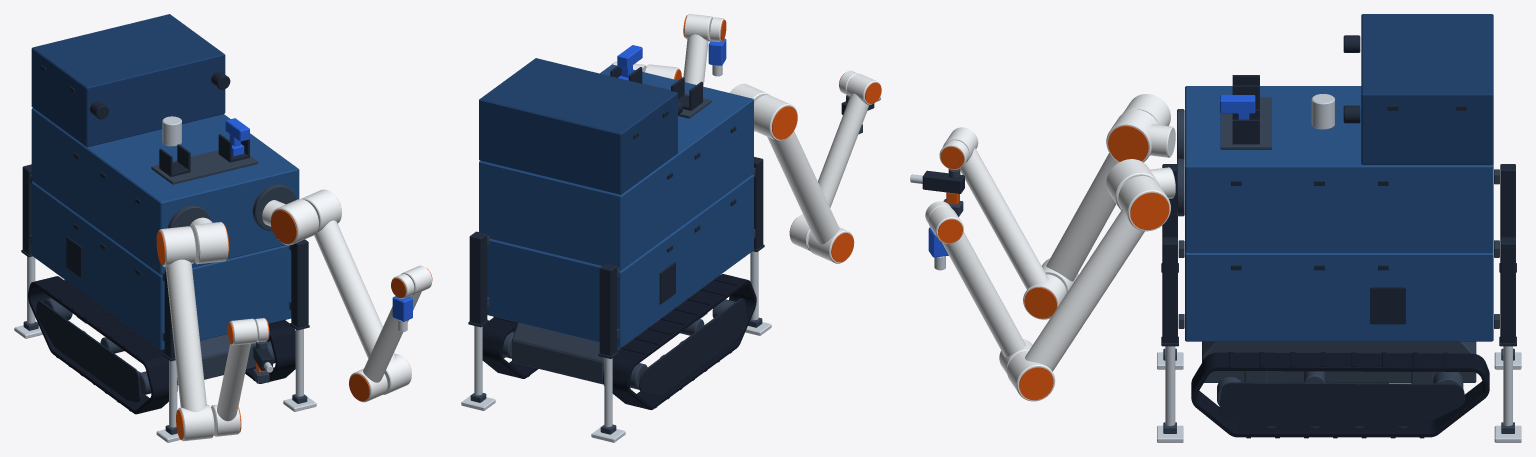
File: RaiseOutriggerClean.glb
The picture shows the model from 3 angles, left to right: view 1: azimuth 30°, elevation 25°; view 2: azimuth 150°, elevation 25°; view 3: azimuth 270°, elevation 25°; orthographic projection. The views are drawn at different scales.
Parts seen in each view (by area): view 1: enclosure_upper, enclosure_rear_turret, enclosure_lower, ur_upper_arm_l, track_belt_l, ur_upper_arm_r, bogie_guard_l, ur_forearm_l, ur_forearm_r, outrigger_housing_fr, track_belt_r, ur_shoulder_l (+19 smaller); view 2: enclosure_upper, enclosure_rear_turret, enclosure_lower, track_belt_l, ur_upper_arm_l, bogie_guard_l, tracked_base_hull, ur_forearm_l, outrigger_housing_rl, outrigger_housing_rr, track_belt_r, ur_forearm_r (+11 smaller); view 3: enclosure_upper, enclosure_lower, enclosure_rear_turret, bogie_guard_r, track_belt_r, ur_upper_arm_r, tracked_base_hull, ur_forearm_l, ur_upper_arm_l, ur_forearm_r, outrigger_housing_fr, outrigger_housing_rr (+19 smaller).
Boxes of the visible parts, bbox=[...] form: enclosure_upper: bbox=[31, 108, 299, 275]; enclosure_rear_turret: bbox=[31, 14, 225, 147]; enclosure_lower: bbox=[31, 181, 291, 350]; ur_upper_arm_l: bbox=[159, 226, 214, 441]; track_belt_l: bbox=[28, 276, 177, 414]; ur_upper_arm_r: bbox=[301, 189, 411, 394]; bogie_guard_l: bbox=[36, 301, 141, 402]; ur_forearm_l: bbox=[211, 318, 257, 436]; ur_forearm_r: bbox=[349, 265, 432, 402]; outrigger_housing_fr: bbox=[290, 239, 309, 330]; track_belt_r: bbox=[245, 320, 295, 383]; ur_shoulder_l: bbox=[189, 217, 228, 264]; enclosure_upper: bbox=[479, 64, 753, 270]; enclosure_rear_turret: bbox=[479, 58, 677, 194]; enclosure_lower: bbox=[487, 174, 753, 347]; track_belt_l: bbox=[602, 274, 756, 409]; ur_upper_arm_l: bbox=[754, 95, 854, 263]; bogie_guard_l: bbox=[639, 298, 746, 396]; tracked_base_hull: bbox=[512, 275, 719, 384]; ur_forearm_l: bbox=[789, 73, 880, 251]; outrigger_housing_rl: bbox=[598, 263, 618, 358]; outrigger_housing_rr: bbox=[468, 231, 488, 327]; track_belt_r: bbox=[482, 317, 538, 378]; ur_forearm_r: bbox=[683, 14, 712, 86]; enclosure_upper: bbox=[1185, 86, 1493, 252]; enclosure_lower: bbox=[1185, 251, 1493, 341]; enclosure_rear_turret: bbox=[1361, 14, 1493, 164]; bogie_guard_r: bbox=[1219, 382, 1465, 426]; track_belt_r: bbox=[1191, 351, 1489, 438]; ur_upper_arm_r: bbox=[1007, 176, 1170, 401]; tracked_base_hull: bbox=[1202, 341, 1476, 383]; ur_forearm_l: bbox=[943, 127, 1066, 319]; ur_upper_arm_l: bbox=[1042, 94, 1170, 292]; ur_forearm_r: bbox=[928, 206, 1032, 373]; outrigger_housing_fr: bbox=[1161, 237, 1178, 346]; outrigger_housing_rr: bbox=[1499, 237, 1516, 346].
Size of the model in its own units: 1.23 by 1.56 by 2.5.
